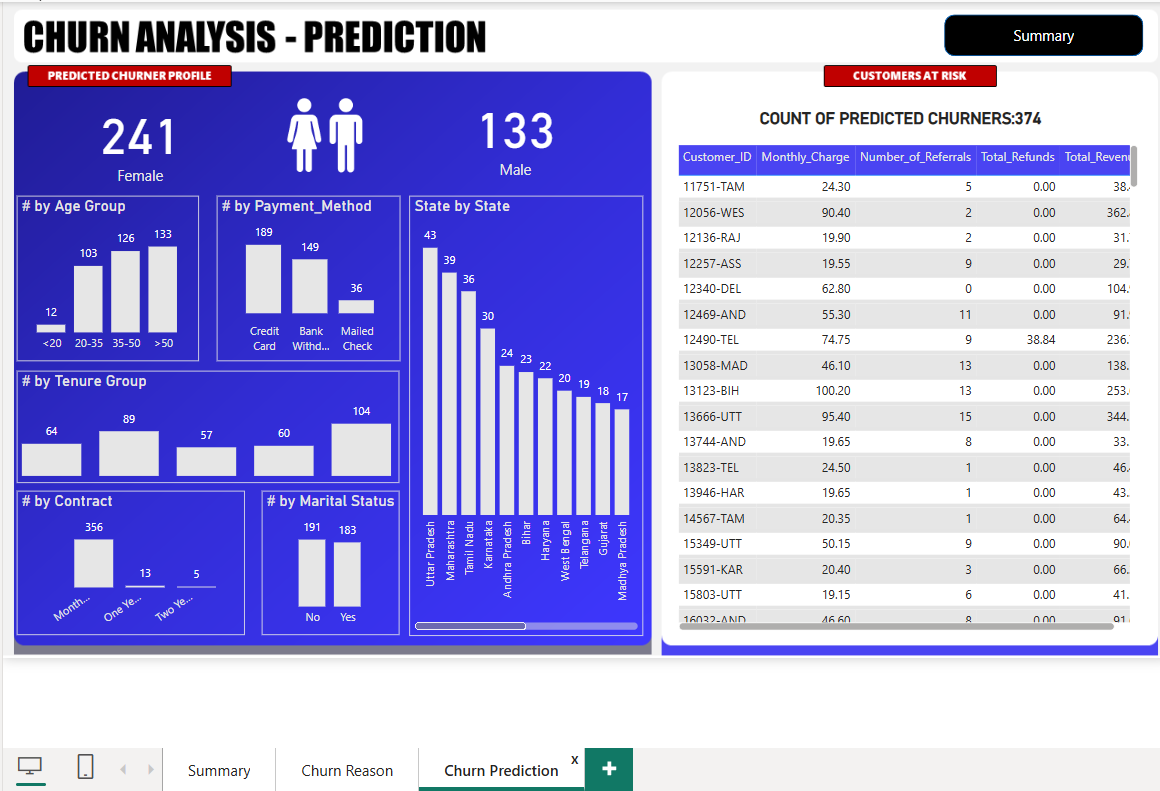

The page's visual inventory and layout, read from the dashboard file:
{"tool":"powerbi","page":{"name":"Churn Prediction","canvas":[1280,720],"ordinal":2},"visuals":[{"type":"tableEx","fields":{"Values":["Prediction_Data.Customer_ID","Prediction_Data.Monthly_Charge","Prediction_Data.Number_of_Referrals","Prediction_Data.Total_Refunds","Prediction_Data.Total_Revenue"]},"box":[735.7,152.9,515.7,542.9],"z":0},{"type":"card","fields":{"Values":["tbl_Measures.Title Predicted Churners"]},"box":[718.6,104.3,532.9,48.6],"z":1000},{"type":"card","fields":{"Values":["tbl_Measures.Count Predicted Churner"]},"box":[0,77.1,301.4,150],"z":2000},{"type":"card","fields":{"Values":["tbl_Measures.Count Predicted Churner"]},"box":[472.9,70,178.6,151.4],"z":3000},{"type":"clusteredColumnChart","fields":{"Category":["mapping_AgeGrp.Age Group"],"Y":["CountNonNull(Prediction_Data.Customer_ID)"]},"box":[15.7,212.9,200,181.4],"z":4000},{"type":"clusteredColumnChart","fields":{"Category":["Prediction_Data.Married"],"Y":["CountNonNull(Prediction_Data.Customer_ID)"]},"box":[284.3,537.1,151.4,158.6],"z":5000},{"type":"clusteredColumnChart","fields":{"Category":["mapping_TenureGrp.Tenure Group"],"Y":["CountNonNull(Prediction_Data.Customer_ID)"]},"box":[15.7,404.3,420,122.9],"z":6000},{"type":"clusteredColumnChart","fields":{"Category":["Prediction_Data.Payment_Method"],"Y":["CountNonNull(Prediction_Data.Customer_ID)"]},"box":[234.3,212.9,201.4,181.4],"z":7000},{"type":"clusteredColumnChart","fields":{"Category":["Prediction_Data.Contract"],"Y":["CountNonNull(Prediction_Data.Customer_ID)"]},"box":[15.7,537.1,250,158.6],"z":8000},{"type":"clusteredColumnChart","fields":{"Category":["Prediction_Data.State"],"Y":["CountNonNull(Prediction_Data.Customer_ID)"]},"box":[445.7,212.9,257.1,482.9],"z":9000},{"type":"image","box":[270,88.6,165.7,112.9],"z":10000},{"type":"shape","box":[1032.9,14.3,218.6,45.7],"z":11000}]}

Visuals, with their boxes on the page's 1280x720 design canvas (x1, y1, x2, y2). These are canvas units, not pixel positions in the 1160x791 screenshot, which may show the page scaled, cropped or inside an application window:
tableEx - Prediction_Data.Customer_ID x Prediction_Data.Monthly_Charge: bbox(736, 153, 1251, 696)
card - tbl_Measures.Title Predicted Churners: bbox(719, 104, 1252, 153)
card - tbl_Measures.Count Predicted Churner: bbox(0, 77, 301, 227)
card - tbl_Measures.Count Predicted Churner: bbox(473, 70, 652, 221)
clusteredColumnChart - mapping_AgeGrp.Age Group x CountNonNull(Prediction_Data.Customer_ID): bbox(16, 213, 216, 394)
clusteredColumnChart - Prediction_Data.Married x CountNonNull(Prediction_Data.Customer_ID): bbox(284, 537, 436, 696)
clusteredColumnChart - mapping_TenureGrp.Tenure Group x CountNonNull(Prediction_Data.Customer_ID): bbox(16, 404, 436, 527)
clusteredColumnChart - Prediction_Data.Payment_Method x CountNonNull(Prediction_Data.Customer_ID): bbox(234, 213, 436, 394)
clusteredColumnChart - Prediction_Data.Contract x CountNonNull(Prediction_Data.Customer_ID): bbox(16, 537, 266, 696)
clusteredColumnChart - Prediction_Data.State x CountNonNull(Prediction_Data.Customer_ID): bbox(446, 213, 703, 696)
image: bbox(270, 89, 436, 202)
shape: bbox(1033, 14, 1252, 60)
